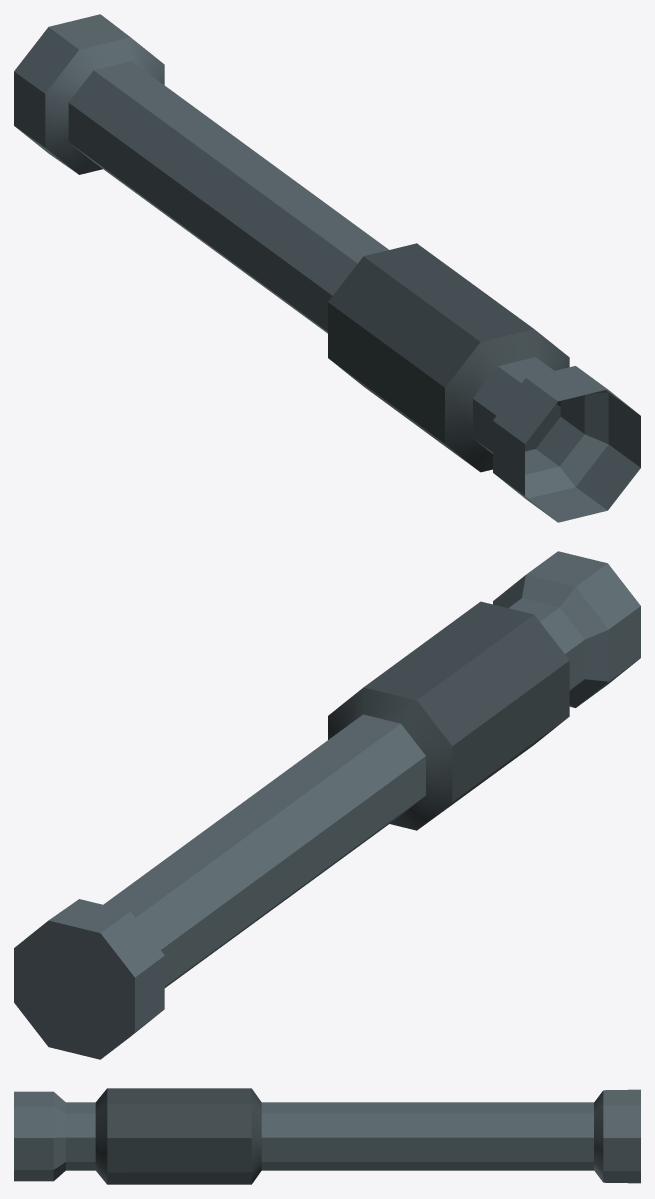
The model's file is Pipes 02.FBX.
3 renders of one model, top to bottom at view 1: azimuth 30°, elevation 25°; view 2: azimuth 150°, elevation 25°; view 3: azimuth 270°, elevation 25°, orthographic. The views are drawn at different scales.
Parts seen in each view (by area): view 1: Pipes 02; view 2: Pipes 02; view 3: Pipes 02.
Part boxes in pixels (bbox=[...]): Pipes 02: bbox=[14, 14, 640, 522]; Pipes 02: bbox=[14, 551, 640, 1059]; Pipes 02: bbox=[14, 1088, 640, 1184].
Size of the model in its own units: 42.45 by 42.45 by 300.
Materials: 1 (1 with a texture image).
